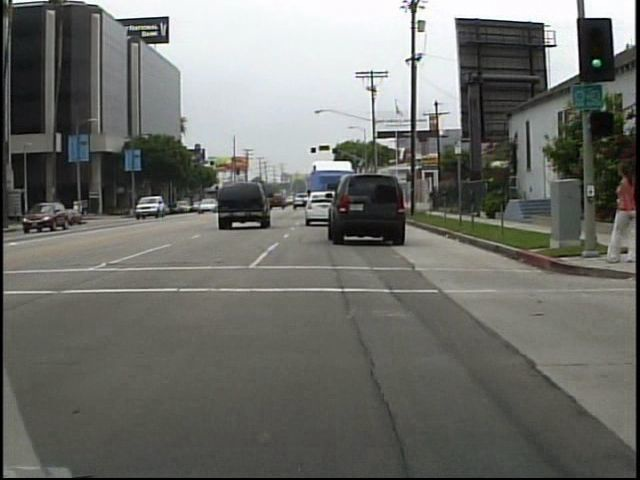person: (601, 158, 638, 266)
